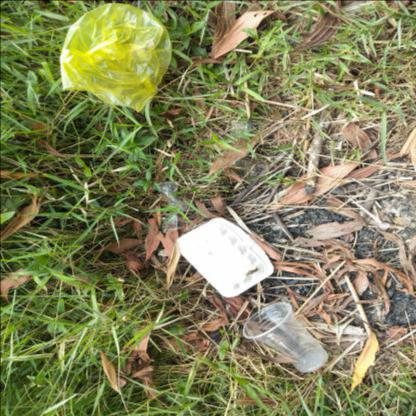Carton: (176, 217, 274, 297)
Cup: (242, 302, 328, 372)
Plastic bag - wrapper: (60, 3, 172, 112), (159, 180, 187, 213), (157, 213, 185, 233)
